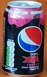pepsi: (2, 1, 44, 76)
